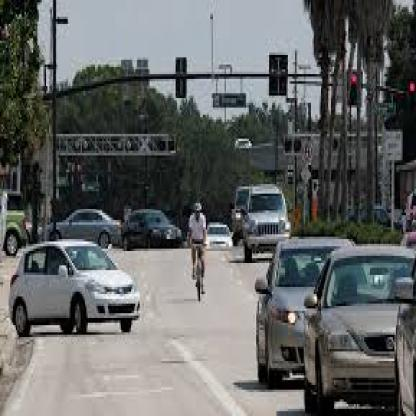car: (263, 234, 416, 413), (245, 229, 379, 379), (308, 240, 414, 412), (2, 238, 149, 361), (240, 181, 295, 265), (394, 211, 416, 414), (118, 199, 184, 265), (50, 195, 125, 249), (0, 184, 54, 258), (187, 198, 212, 310)
